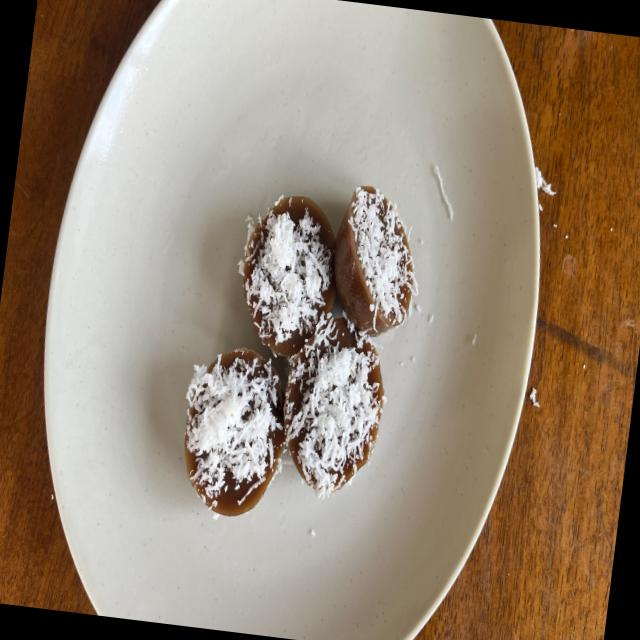Kuih lompang: (283, 312, 383, 497), (184, 348, 284, 516), (242, 196, 336, 357), (334, 185, 416, 335)
